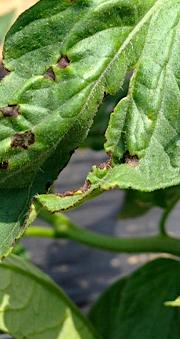Tomato leaf bacterial spot: (0, 0, 180, 316)
